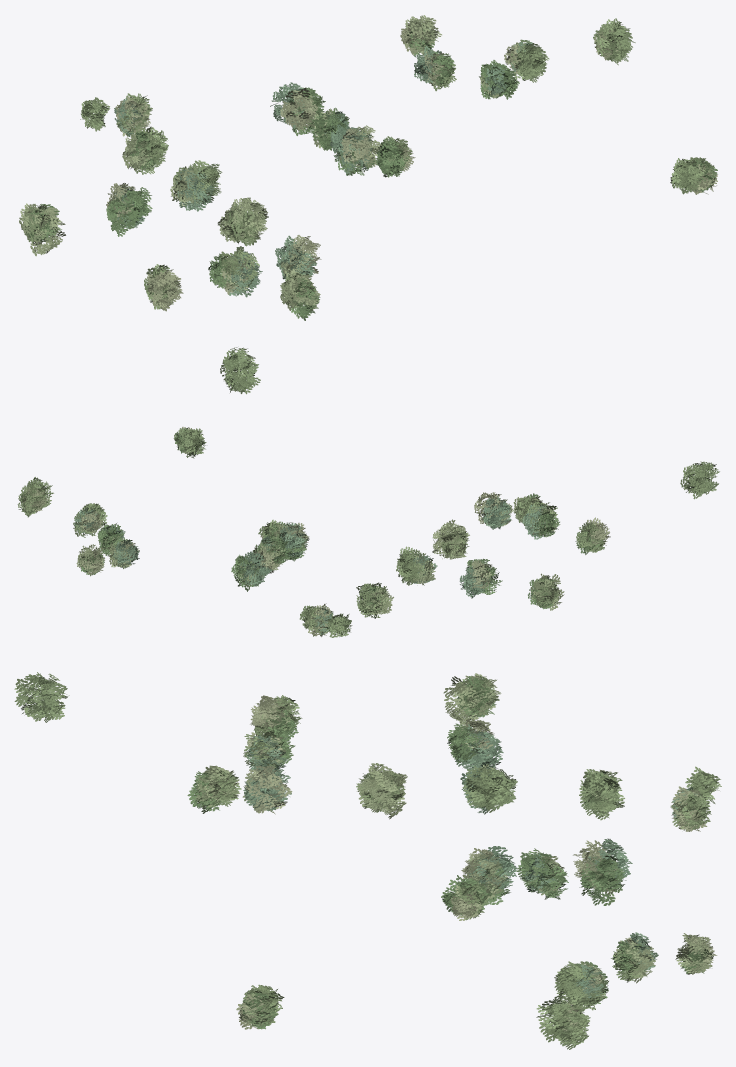
Rendered from campus-tree-3_-1-middle.glb.
3 views of the same model, one above another, from view 1: azimuth 30°, elevation 25°; view 2: azimuth 150°, elevation 25°; view 3: azimuth 270°, elevation 25° (orthographic). The views are drawn at different scales.
Visible parts, largest first — view 1: Campus leaf canopy; view 2: Campus leaf canopy; view 3: Campus leaf canopy.
Boxes of the visible parts, x1=… form: Campus leaf canopy: x1=19, y1=15, x2=717, y2=394; Campus leaf canopy: x1=17, y1=427, x2=719, y2=637; Campus leaf canopy: x1=14, y1=672, x2=721, y2=1049.
Bounding box in the file's own units: 82.91 × 8.24 × 71.24.
Materials: 1 (1 with a texture image).
